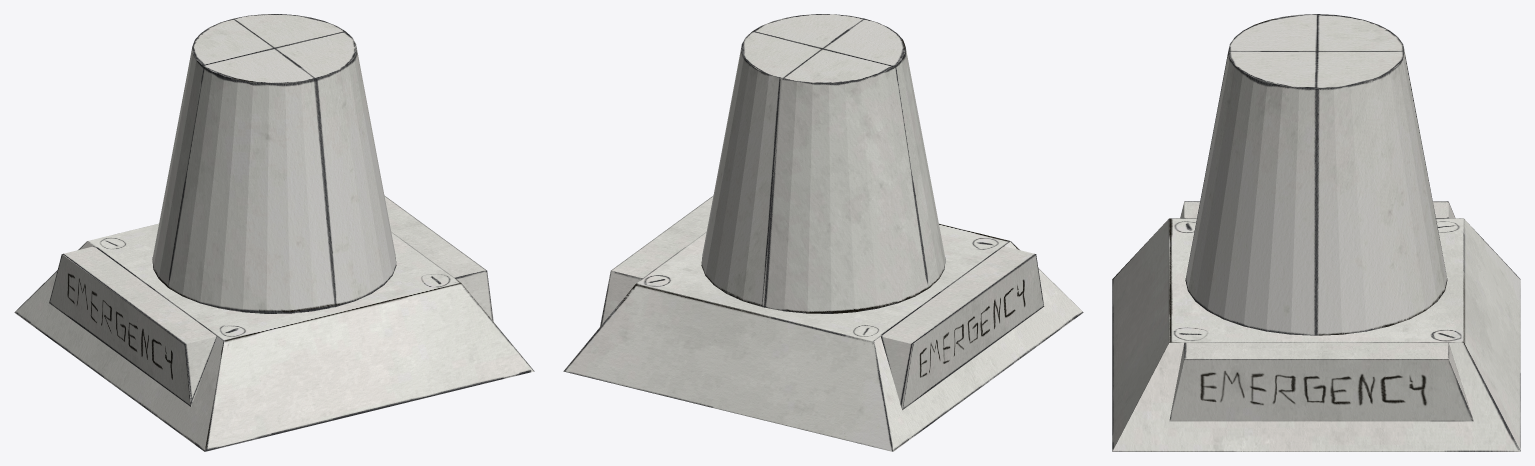
File: Emergency light.fbx
The picture shows the model from 3 angles, left to right: view 1: azimuth 30°, elevation 25°; view 2: azimuth 150°, elevation 25°; view 3: azimuth 270°, elevation 25°; orthographic projection. The views are drawn at different scales.
Parts seen in each view (by area): view 1: Cube; view 2: Cube; view 3: Cube.
Boxes of the visible parts, left/top/right/bottom form: Cube: left=14, top=14, right=534, bottom=451; Cube: left=563, top=14, right=1083, bottom=451; Cube: left=1112, top=14, right=1520, bottom=451.
Size of the model in its own units: 200 by 170 by 200.
